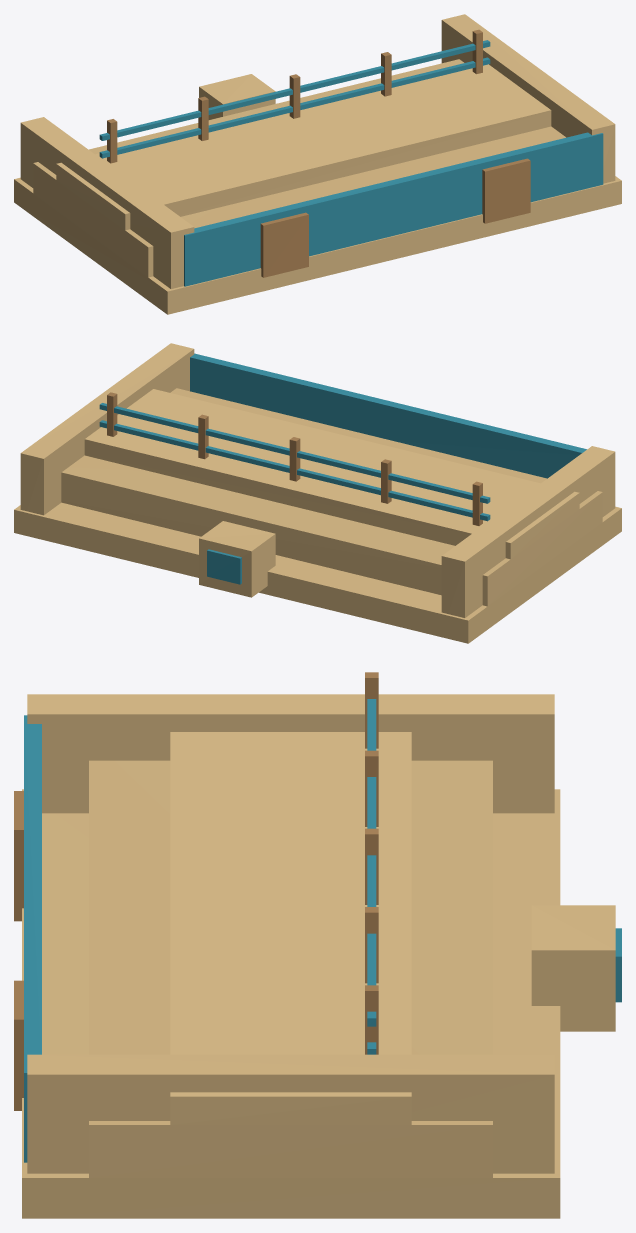
File: levee.source.glb
The picture shows the model from 3 angles, top to bottom: view 1: azimuth 30°, elevation 25°; view 2: azimuth 150°, elevation 25°; view 3: azimuth 270°, elevation 25°; orthographic projection. The views are drawn at different scales.
Visible parts, largest first — view 1: levee-flat-top-inspection-path-mesh, levee-charcoal-sheet-pile-water-face-mesh, levee-grounded-wide-embankment-base-mesh, levee-stepped-middle-embankment-mesh, levee-clean-modular-end-cap--3.8-mesh, levee-clean-modular-end-cap-3.8-mesh, levee-top-safety-rail-1.35-mesh, levee-top-safety-rail-1.65-mesh, levee-muted-teal-access-gate-2-mesh, levee-muted-teal-access-gate--2-mesh, levee-cream-drainage-outlet-housing-mesh, levee-top-marker-post-0-mesh (+4 smaller); view 2: levee-flat-top-inspection-path-mesh, levee-stepped-middle-embankment-mesh, levee-grounded-wide-embankment-base-mesh, levee-charcoal-sheet-pile-water-face-mesh, levee-clean-modular-end-cap--3.8-mesh, levee-clean-modular-end-cap-3.8-mesh, levee-cream-drainage-outlet-housing-mesh, levee-top-safety-rail-1.35-mesh, levee-top-safety-rail-1.65-mesh, levee-dark-drainage-grille-mesh, levee-top-marker-post-0-mesh, levee-top-marker-post--3.3-mesh (+3 smaller); view 3: levee-flat-top-inspection-path-mesh, levee-stepped-middle-embankment-mesh, levee-grounded-wide-embankment-base-mesh, levee-clean-modular-end-cap-3.8-mesh, levee-clean-modular-end-cap--3.8-mesh, levee-cream-drainage-outlet-housing-mesh, levee-charcoal-sheet-pile-water-face-mesh, levee-top-safety-rail-1.65-mesh, levee-muted-teal-access-gate--2-mesh, levee-muted-teal-access-gate-2-mesh, levee-top-marker-post-3.3-mesh.
Part boxes in pixels (left/top/right/bottom): levee-flat-top-inspection-path-mesh: left=56, top=64, right=551, bottom=230; levee-charcoal-sheet-pile-water-face-mesh: left=184, top=132, right=603, bottom=286; levee-grounded-wide-embankment-base-mesh: left=14, top=176, right=621, bottom=314; levee-stepped-middle-embankment-mesh: left=33, top=59, right=565, bottom=277; levee-clean-modular-end-cap--3.8-mesh: left=20, top=117, right=194, bottom=288; levee-clean-modular-end-cap-3.8-mesh: left=441, top=14, right=615, bottom=183; levee-top-safety-rail-1.35-mesh: left=99, top=57, right=490, bottom=158; levee-top-safety-rail-1.65-mesh: left=99, top=40, right=490, bottom=140; levee-muted-teal-access-gate-2-mesh: left=482, top=158, right=530, bottom=223; levee-muted-teal-access-gate--2-mesh: left=260, top=212, right=308, bottom=277; levee-cream-drainage-outlet-housing-mesh: left=199, top=74, right=275, bottom=119; levee-top-marker-post-0-mesh: left=289, top=74, right=300, bottom=118; levee-flat-top-inspection-path-mesh: left=84, top=389, right=579, bottom=559; levee-stepped-middle-embankment-mesh: left=61, top=388, right=602, bottom=606; levee-grounded-wide-embankment-base-mesh: left=14, top=502, right=621, bottom=643; levee-charcoal-sheet-pile-water-face-mesh: left=190, top=353, right=586, bottom=478; levee-clean-modular-end-cap--3.8-mesh: left=441, top=446, right=615, bottom=617; levee-clean-modular-end-cap-3.8-mesh: left=20, top=343, right=194, bottom=515; levee-cream-drainage-outlet-housing-mesh: left=199, top=521, right=275, bottom=597; levee-top-safety-rail-1.35-mesh: left=99, top=420, right=490, bottom=521; levee-top-safety-rail-1.65-mesh: left=99, top=403, right=490, bottom=503; levee-dark-drainage-grille-mesh: left=207, top=549, right=241, bottom=584; levee-top-marker-post-0-mesh: left=289, top=437, right=300, bottom=481; levee-top-marker-post--3.3-mesh: left=472, top=481, right=482, bottom=525; levee-flat-top-inspection-path-mesh: left=170, top=732, right=411, bottom=1124; levee-stepped-middle-embankment-mesh: left=89, top=760, right=492, bottom=1177; levee-grounded-wide-embankment-base-mesh: left=22, top=789, right=560, bottom=1218; levee-clean-modular-end-cap-3.8-mesh: left=27, top=1054, right=554, bottom=1173; levee-clean-modular-end-cap--3.8-mesh: left=27, top=694, right=554, bottom=813; levee-cream-drainage-outlet-housing-mesh: left=531, top=905, right=615, bottom=1031; levee-charcoal-sheet-pile-water-face-mesh: left=24, top=715, right=41, bottom=1162; levee-top-safety-rail-1.65-mesh: left=367, top=699, right=376, bottom=1026; levee-muted-teal-access-gate--2-mesh: left=14, top=791, right=23, bottom=921; levee-muted-teal-access-gate-2-mesh: left=14, top=980, right=23, bottom=1110; levee-top-marker-post-3.3-mesh: left=365, top=985, right=378, bottom=1054.
Size of the model in its own units: 8.2 by 1.9 by 5.42.
